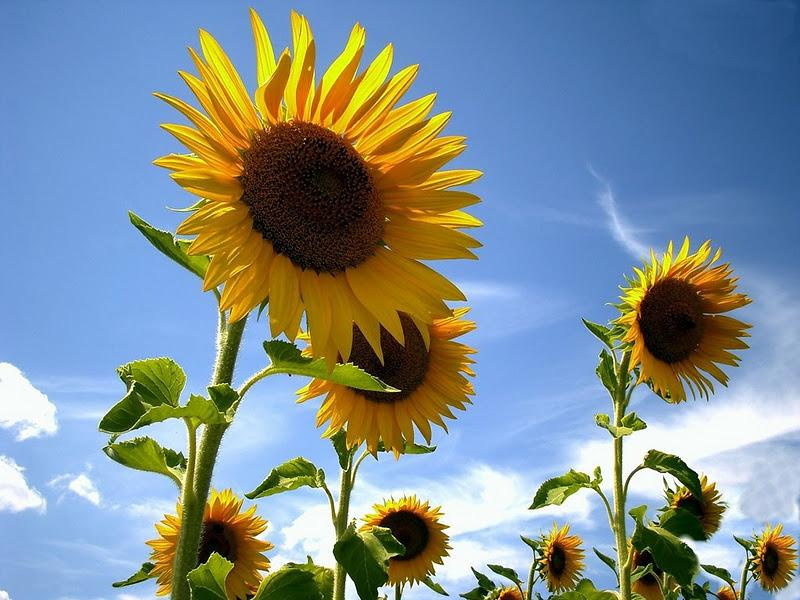sunflowers: (159, 5, 475, 333)
